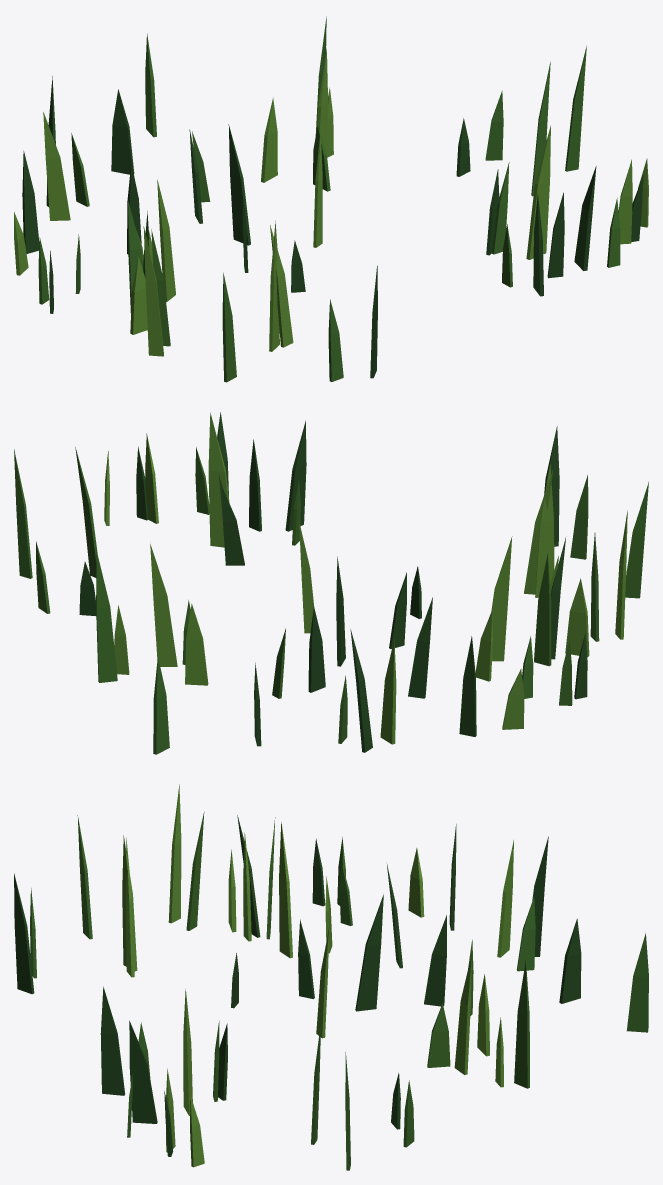
File: grass_meadow_d.glb
3 views of the same model, one above another, from view 1: azimuth 30°, elevation 25°; view 2: azimuth 150°, elevation 25°; view 3: azimuth 270°, elevation 25° (orthographic).
Parts seen in each view (by area): view 1: Meadow_3.003, Meadow_2.003, Meadow_1.003; view 2: Meadow_3.003, Meadow_1.003, Meadow_2.003; view 3: Meadow_1.003, Meadow_3.003, Meadow_2.003.
Part boxes in pixels (x1,y1,x2,y2): Meadow_3.003: [14, 47, 648, 356]; Meadow_2.003: [38, 16, 620, 382]; Meadow_1.003: [22, 76, 643, 378]; Meadow_3.003: [104, 412, 627, 744]; Meadow_1.003: [79, 412, 587, 752]; Meadow_2.003: [14, 447, 648, 754]; Meadow_1.003: [14, 815, 581, 1156]; Meadow_3.003: [122, 784, 513, 1167]; Meadow_2.003: [30, 811, 648, 1170].
Size of the model in its own units: 2.3 by 0.5214 by 2.27.
